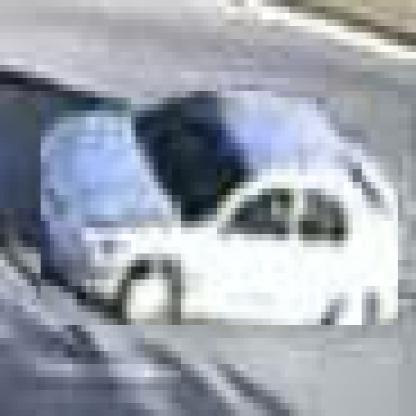car: (42, 92, 403, 332)
